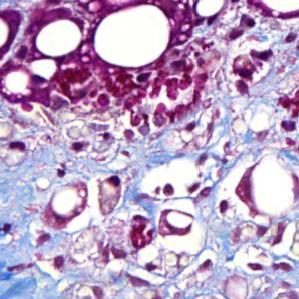steatosis: (94, 4, 171, 71), (33, 17, 82, 59)
